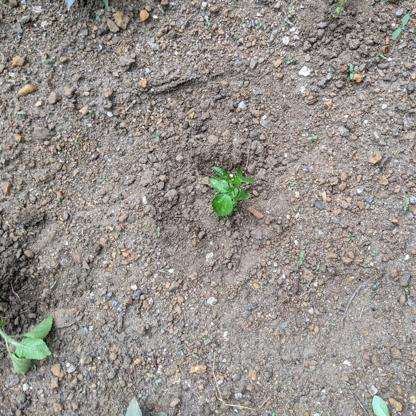weed: (1, 311, 56, 376), (205, 164, 257, 221)
